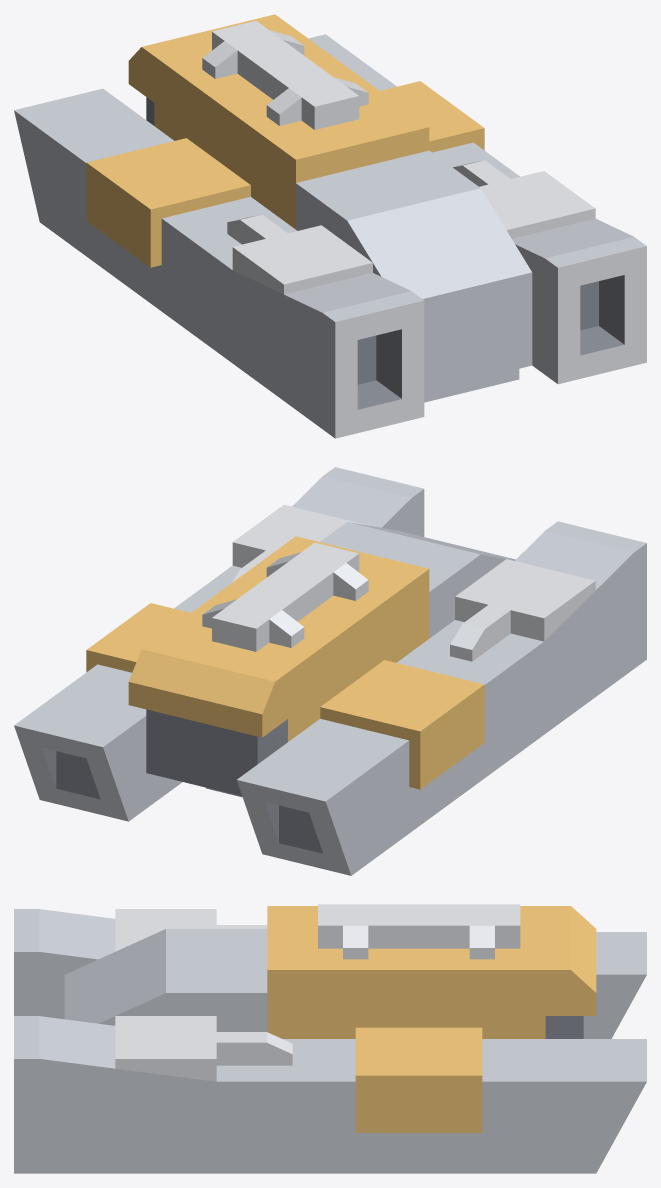
Rendered from craft_cargoB.glb.
3 renders of one model, top to bottom at view 1: azimuth 30°, elevation 25°; view 2: azimuth 150°, elevation 25°; view 3: azimuth 270°, elevation 25°, orthographic.
Parts seen in each view (by area): view 1: craft_cargoB; view 2: craft_cargoB; view 3: craft_cargoB.
Boxes of the visible parts, x1=… form: craft_cargoB: x1=14, y1=14, x2=646, y2=438; craft_cargoB: x1=14, y1=467, x2=646, y2=875; craft_cargoB: x1=14, y1=904, x2=646, y2=1173.
Bounding box in the file's own units: 1.5 × 0.9 × 2.5.
